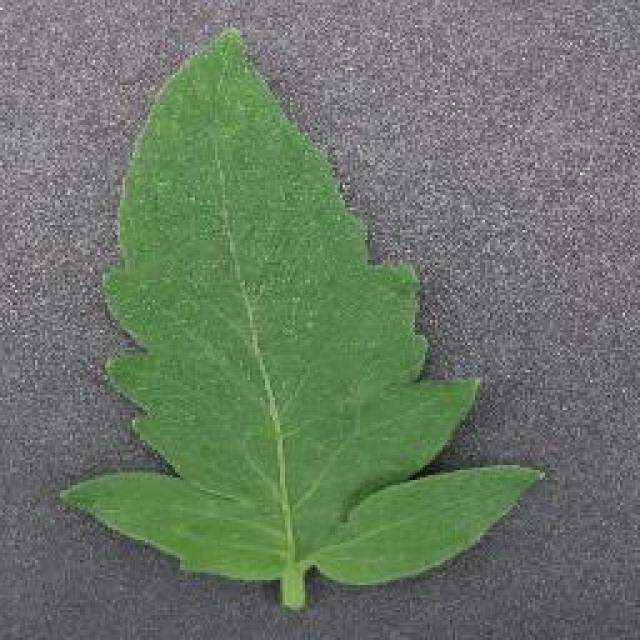Tomato_Healthy: (49, 15, 548, 601)
